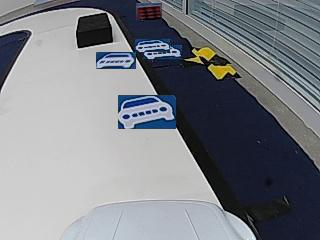block: (75, 13, 113, 48)
